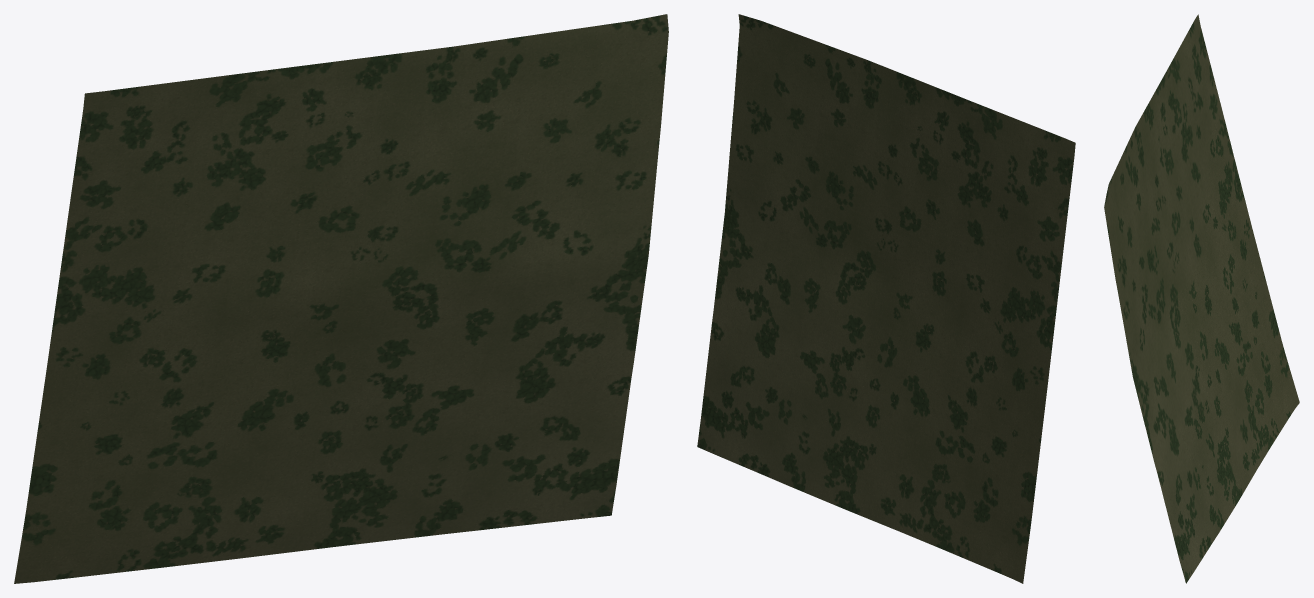
File: terrain_near_00_09.obj
The picture shows the model from 3 angles, left to right: view 1: azimuth 30°, elevation 25°; view 2: azimuth 150°, elevation 25°; view 3: azimuth 270°, elevation 25°; orthographic projection. The views are drawn at different scales.
Visible parts, largest first — view 1: terrain_near_00_09; view 2: terrain_near_00_09; view 3: terrain_near_00_09.
Boxes of the visible parts, x1,y1,x2,y2 form: terrain_near_00_09: (14, 14, 668, 583); terrain_near_00_09: (697, 14, 1075, 583); terrain_near_00_09: (1104, 14, 1299, 583).
Size of the model in its own units: 64 by 64 by 29.21.
Materials: 1 (1 with a texture image).
